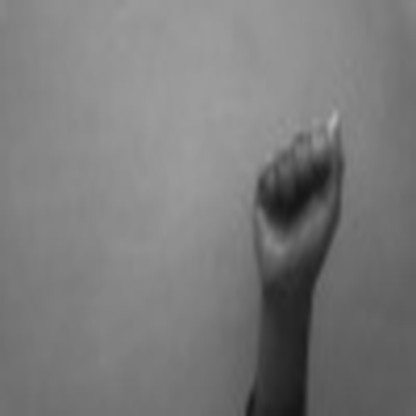a: (248, 102, 357, 285)
